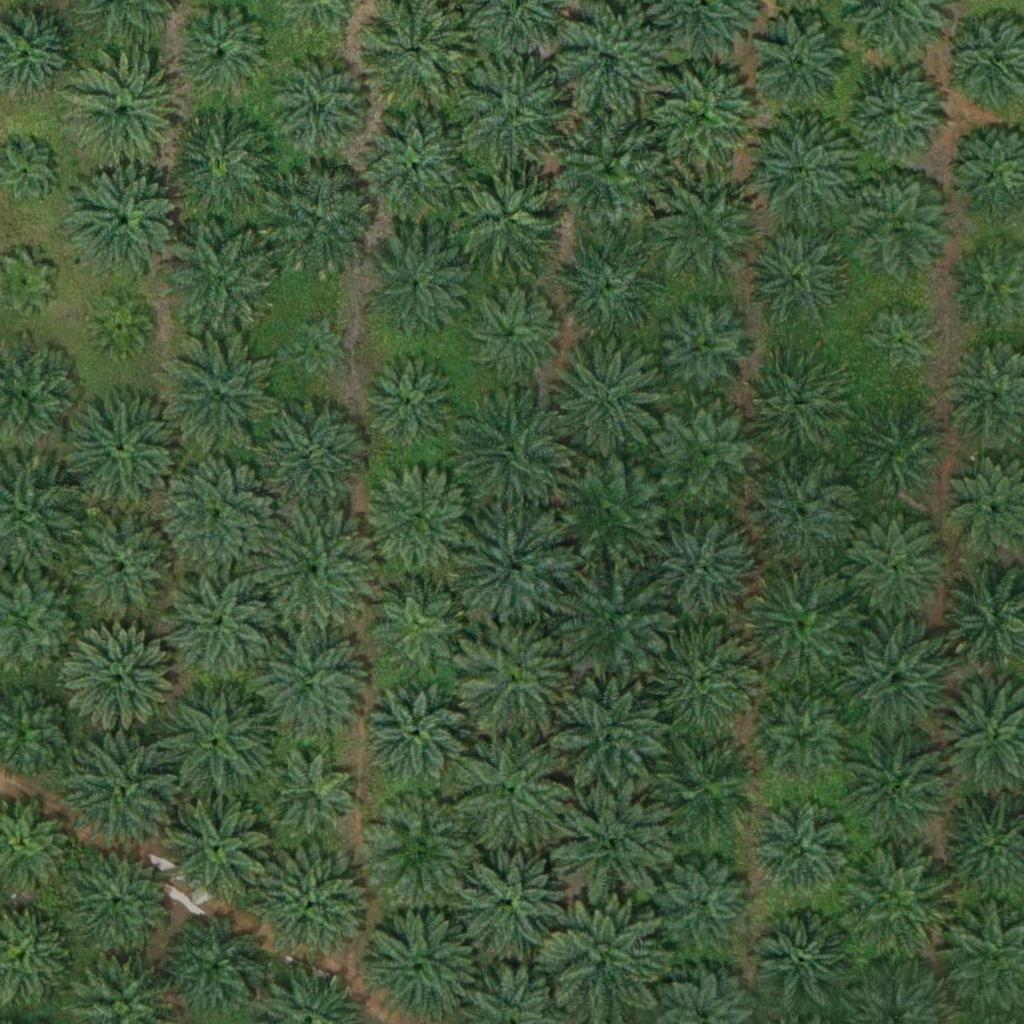Kelapa_Sawit: (550, 452, 663, 566), (456, 388, 569, 502), (362, 232, 475, 346), (557, 562, 670, 676), (842, 728, 955, 842), (66, 57, 179, 170), (748, 117, 861, 230), (649, 63, 762, 176), (460, 62, 573, 175), (451, 161, 564, 274), (456, 510, 569, 623), (360, 113, 473, 226), (159, 334, 272, 447), (163, 457, 276, 570), (68, 168, 181, 281), (65, 394, 178, 507), (65, 624, 178, 737), (158, 569, 271, 682), (161, 683, 274, 796), (162, 788, 275, 901), (256, 848, 369, 961), (366, 907, 479, 1020), (457, 623, 570, 736), (552, 682, 665, 795), (554, 788, 667, 901), (548, 903, 661, 1016), (746, 561, 859, 674), (843, 621, 956, 734), (645, 513, 757, 627), (262, 167, 374, 281), (165, 110, 277, 224), (653, 621, 765, 735), (843, 853, 955, 967), (552, 4, 664, 117), (744, 458, 856, 571), (651, 174, 763, 287), (554, 114, 666, 227), (550, 226, 662, 339), (552, 338, 664, 451), (363, 465, 475, 578), (257, 399, 369, 512), (259, 512, 371, 625), (168, 223, 280, 336), (65, 513, 177, 626), (63, 737, 175, 850), (61, 847, 173, 960), (253, 630, 365, 743), (365, 793, 477, 906), (459, 735, 571, 848), (457, 841, 569, 954), (650, 736, 762, 849), (749, 14, 849, 115), (846, 62, 946, 163), (847, 174, 947, 275), (849, 400, 949, 501), (847, 516, 947, 617), (747, 223, 847, 324), (744, 356, 844, 457), (657, 300, 757, 401), (657, 403, 757, 504), (164, 915, 264, 1016), (264, 748, 364, 849), (368, 570, 468, 671), (364, 681, 464, 782), (654, 853, 754, 954), (756, 914, 856, 1015), (271, 59, 371, 159), (461, 282, 561, 382), (359, 351, 459, 451), (751, 801, 851, 901), (757, 698, 845, 786), (860, 306, 935, 381), (89, 295, 152, 358), (286, 315, 348, 378)
